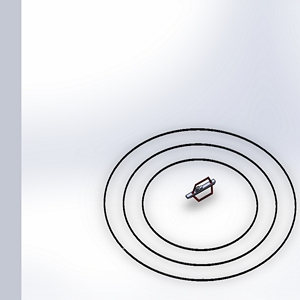circle: (98, 123, 299, 285)
submarine: (180, 172, 227, 216)
